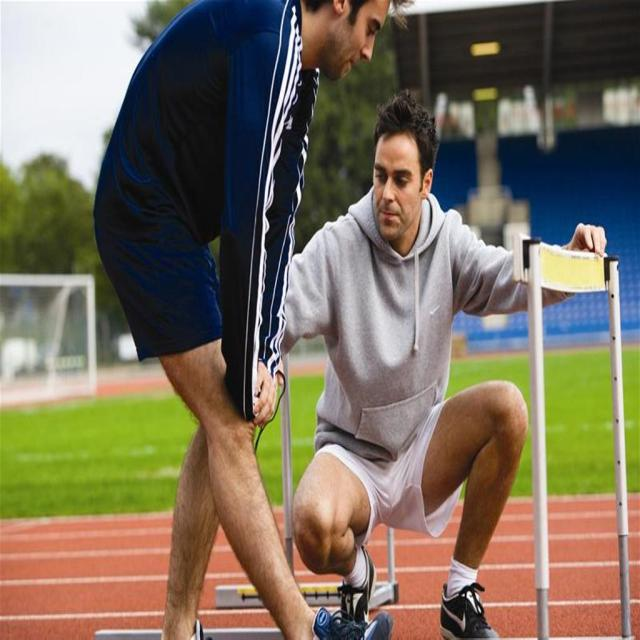Face: (375, 125, 427, 245), (323, 1, 394, 82)
